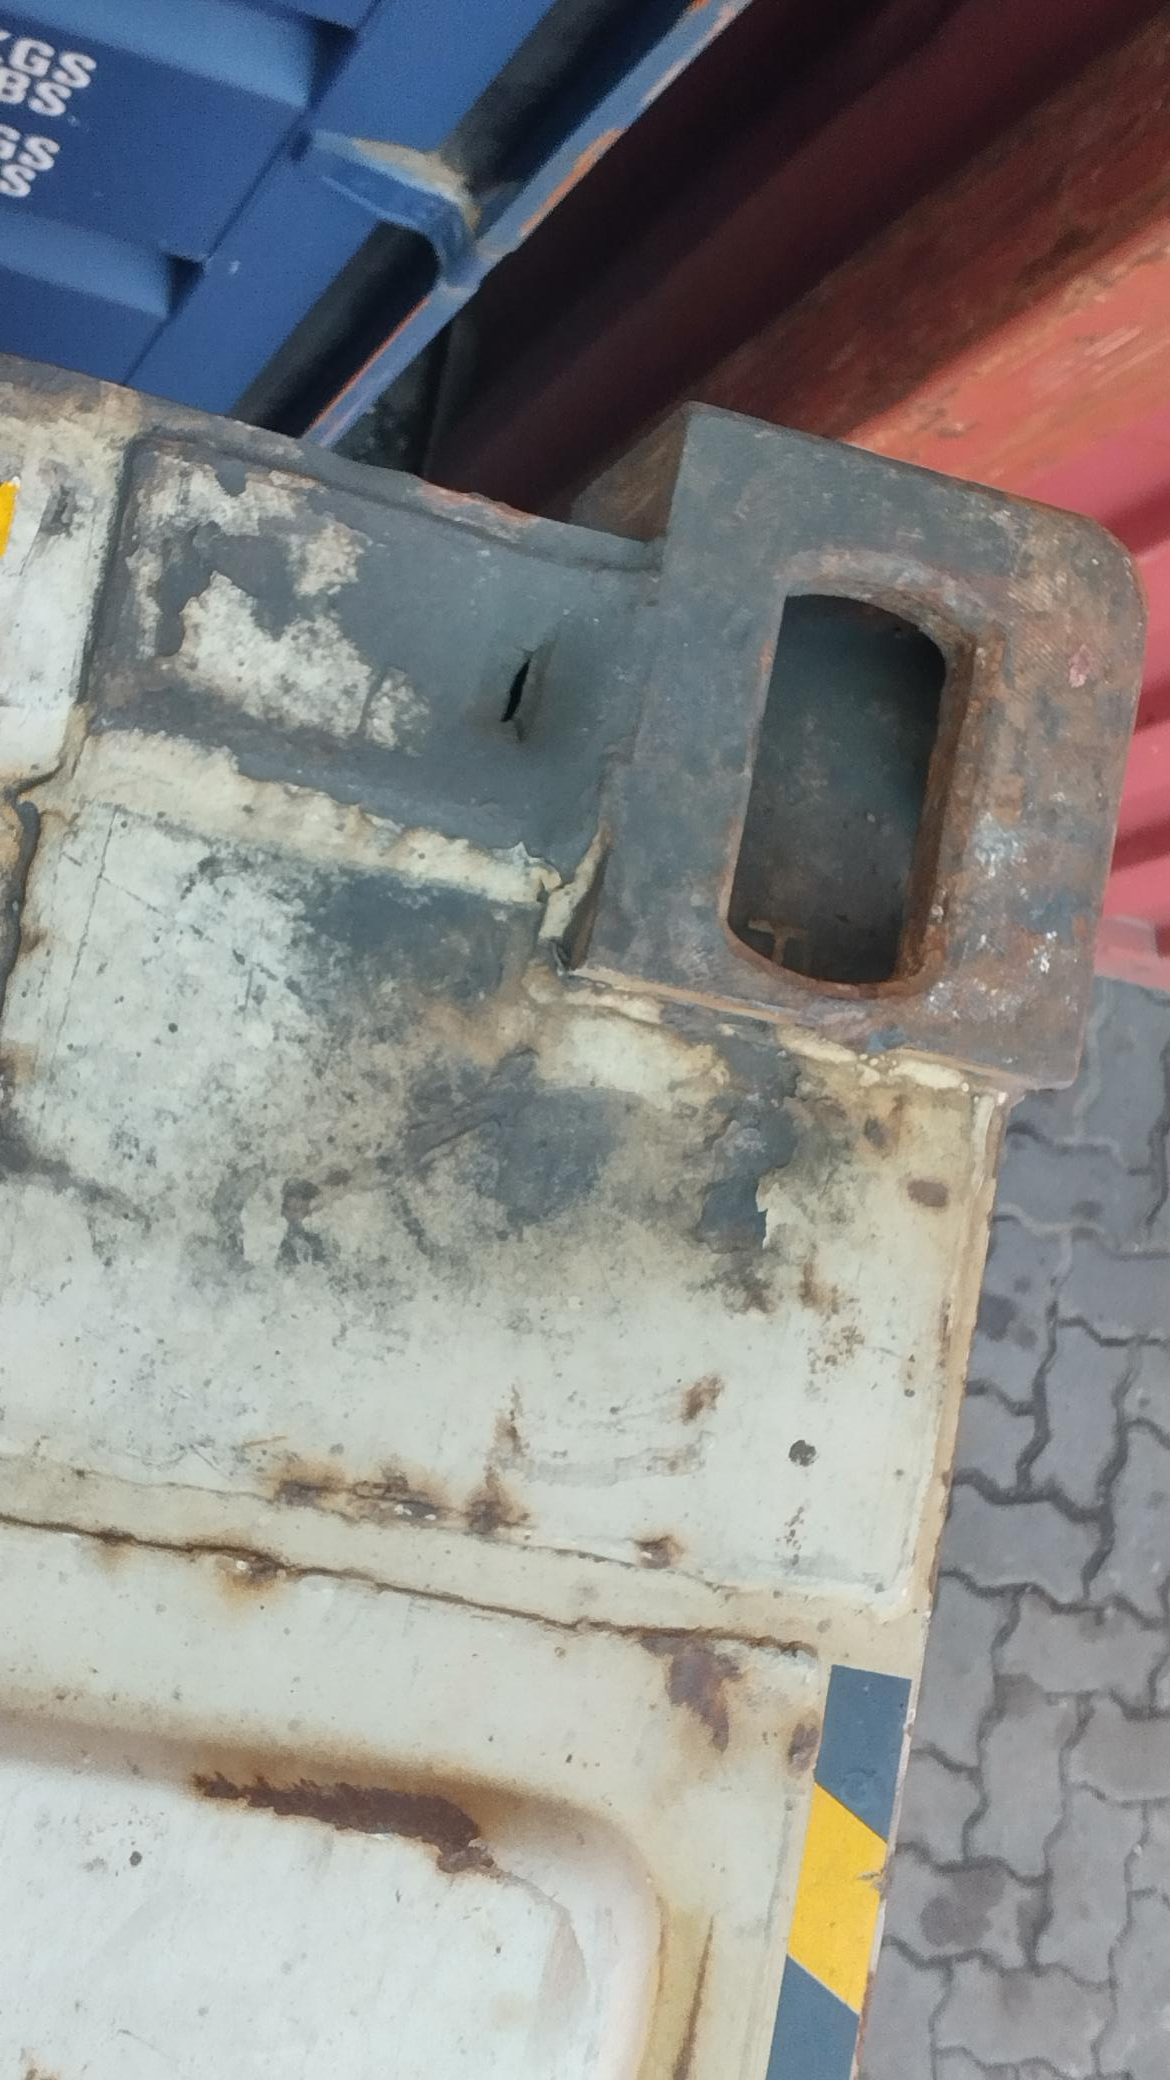severe: (329, 541, 609, 793)
